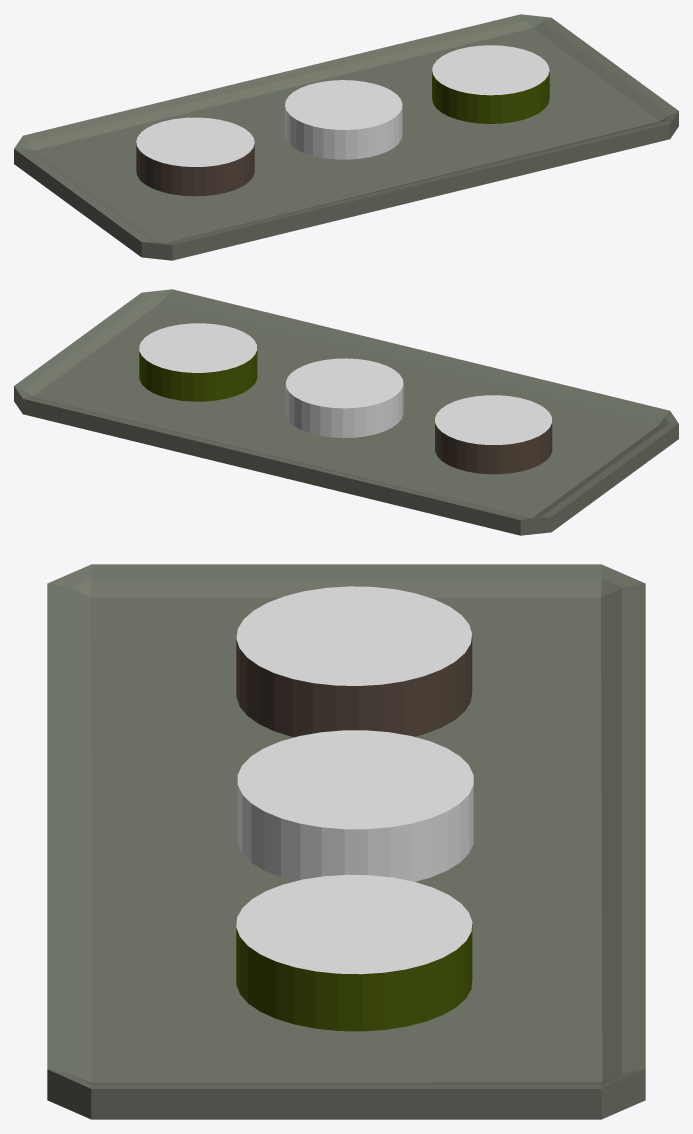
The model's file is buttons3.fbx.
3 renders of one model, top to bottom at view 1: azimuth 30°, elevation 25°; view 2: azimuth 150°, elevation 25°; view 3: azimuth 270°, elevation 25°, orthographic. The views are drawn at different scales.
Visible parts, largest first — view 1: Cube, Cylinder.001, Cylinder.003, Cylinder.002; view 2: Cube, Cylinder.001, Cylinder.003, Cylinder.002; view 3: Cube, Cylinder.002, Cylinder.001, Cylinder.003.
Part boxes in pixels (bbox=[...]): Cube: bbox=[14, 14, 678, 260]; Cylinder.001: bbox=[285, 80, 402, 159]; Cylinder.003: bbox=[136, 117, 254, 196]; Cylinder.002: bbox=[432, 45, 549, 123]; Cube: bbox=[14, 289, 678, 535]; Cylinder.001: bbox=[285, 358, 403, 437]; Cylinder.003: bbox=[435, 395, 552, 474]; Cylinder.002: bbox=[139, 323, 257, 401]; Cube: bbox=[47, 564, 645, 1119]; Cylinder.002: bbox=[236, 874, 472, 1031]; Cylinder.001: bbox=[237, 730, 473, 881]; Cylinder.003: bbox=[236, 586, 472, 737].
Size of the model in its own units: 5641 by 404 by 2718.
